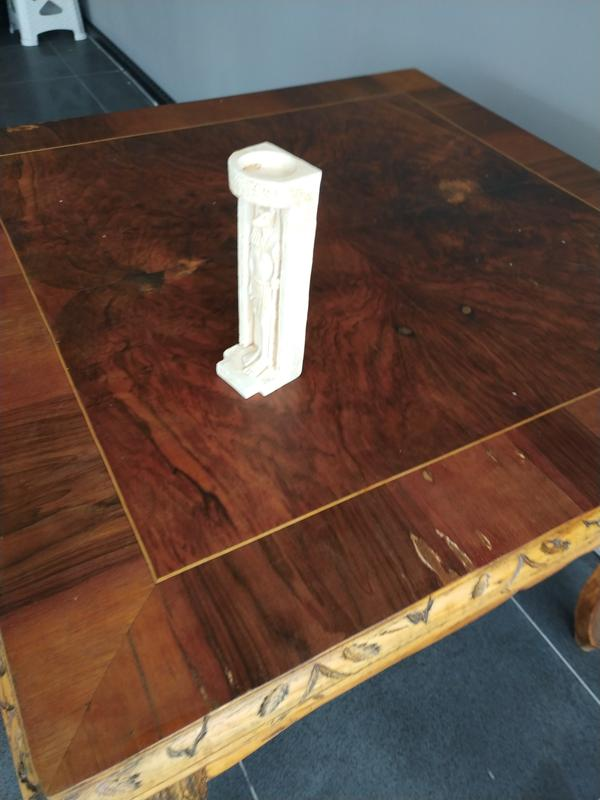heykel: (210, 134, 327, 408)
